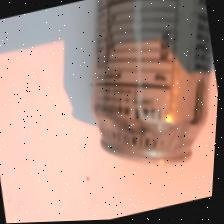metal: (42, 0, 224, 197)
